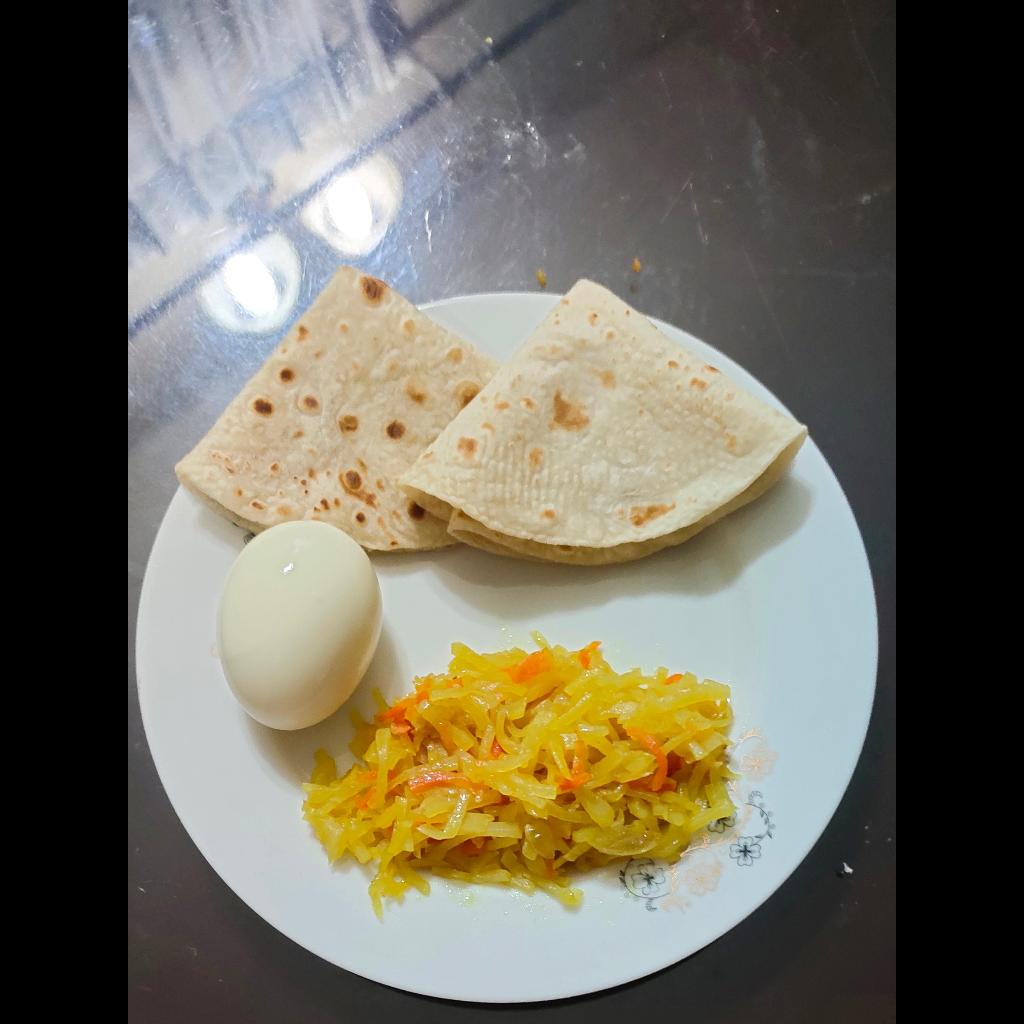egg-boiled: (216, 516, 381, 735)
ruti: (173, 260, 806, 569)
vaji: (308, 639, 732, 911)
